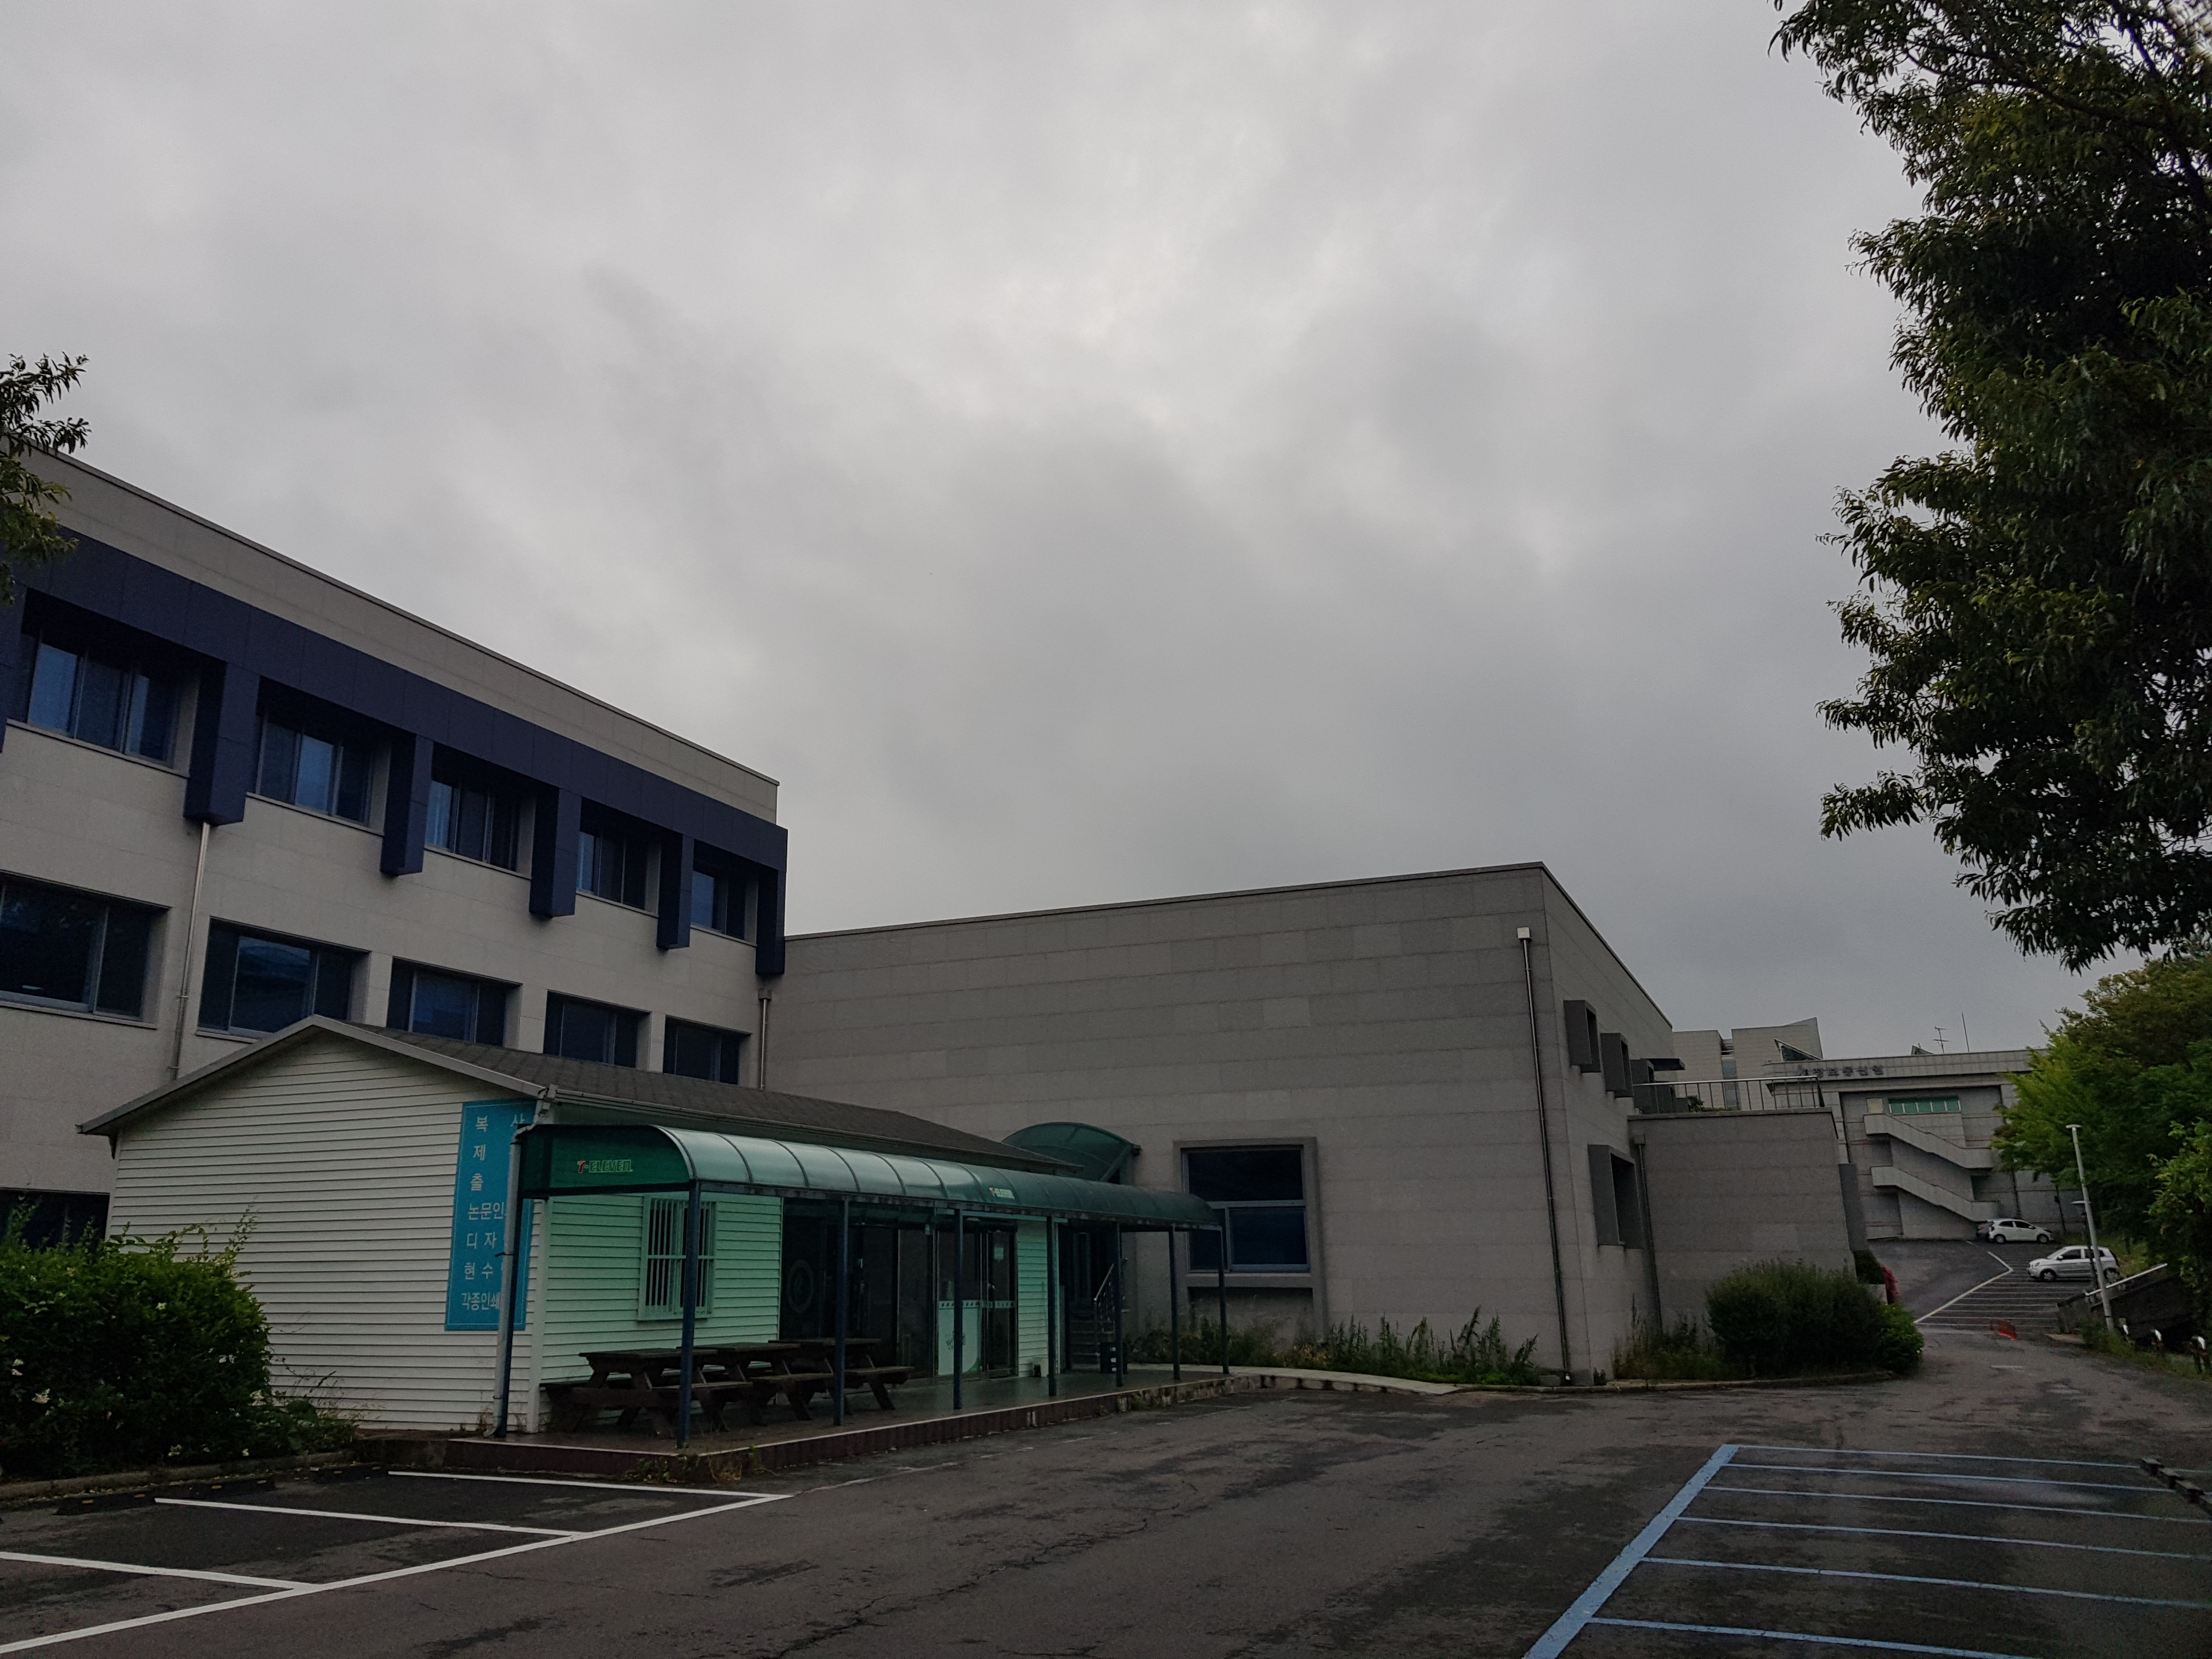College of Social Sciences: (35, 462, 1918, 1434), (672, 758, 1928, 1464), (68, 1006, 1287, 1431), (94, 568, 810, 993)
